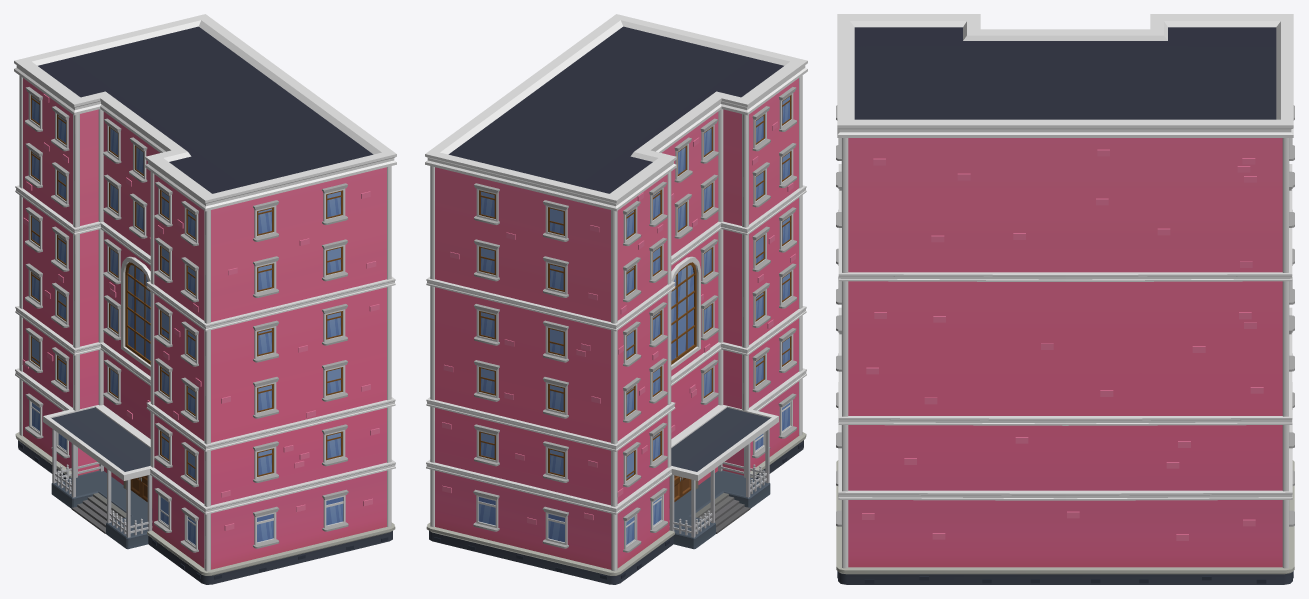
The model's file is Building_5_4_L.fbx.
3 renders of one model, left to right at view 1: azimuth 30°, elevation 25°; view 2: azimuth 150°, elevation 25°; view 3: azimuth 270°, elevation 25°, orthographic. The views are drawn at different scales.
Visible parts, largest first — view 1: Building_5_4_L; view 2: Building_5_4_L; view 3: Building_5_4_L.
Part boxes in pixels (x1,y1,x2,y2): Building_5_4_L: [14, 14, 396, 584]; Building_5_4_L: [425, 14, 807, 584]; Building_5_4_L: [836, 14, 1294, 584].
Bounding box in the file's own units: 1251 × 2109 × 1908.
